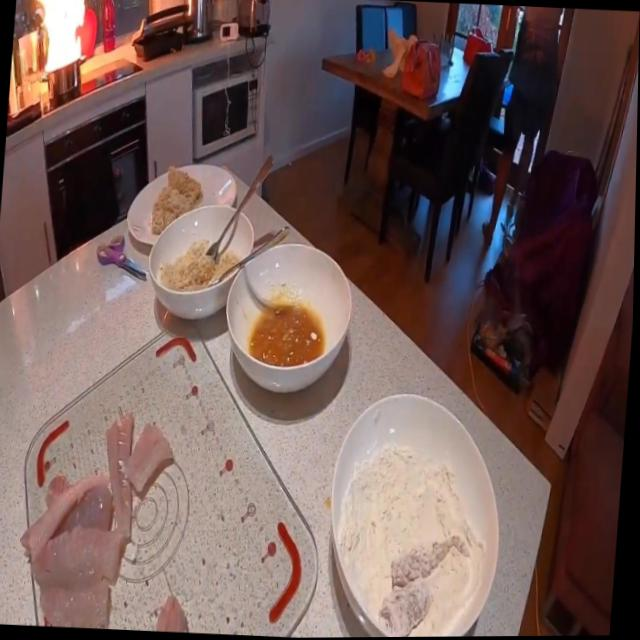fire: (25, 0, 90, 75)
